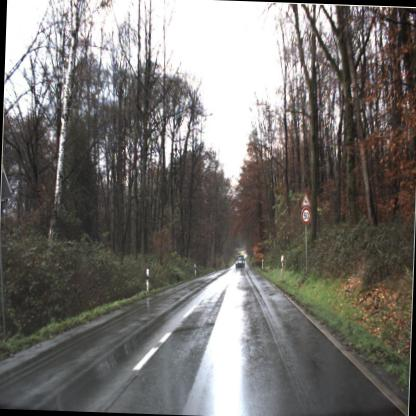danger: (298, 188, 314, 210)
prohibitory: (300, 209, 312, 225)
